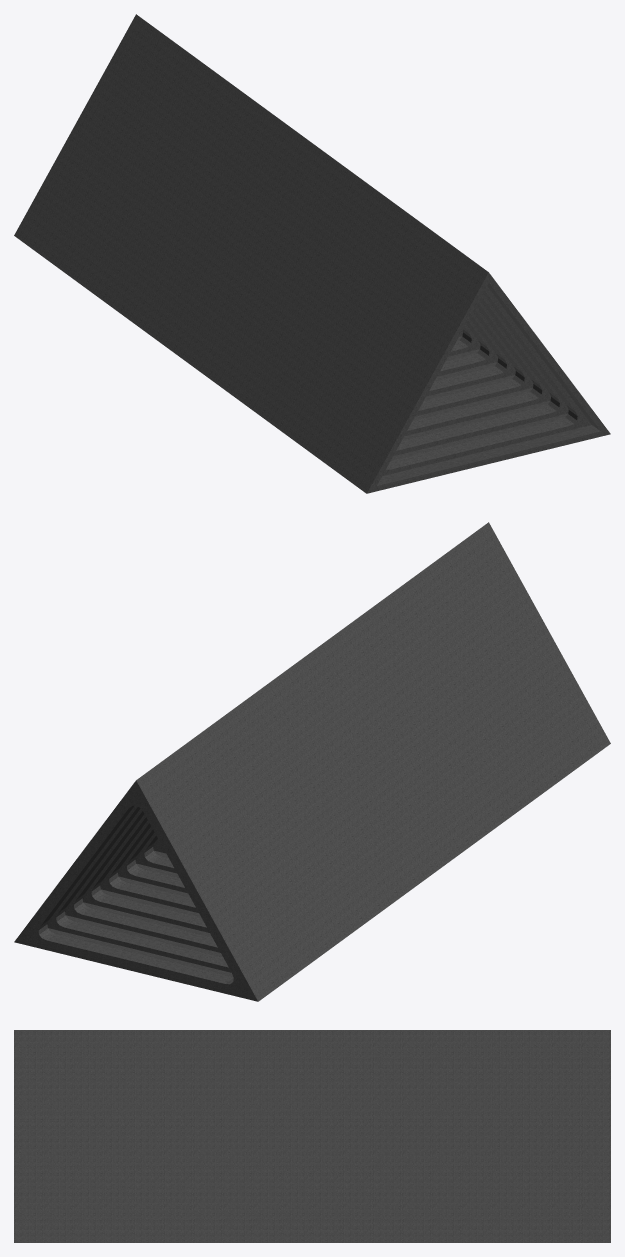
File: VerdgeMegaStructure.fbx
3 views of the same model, one above another, from view 1: azimuth 30°, elevation 25°; view 2: azimuth 150°, elevation 25°; view 3: azimuth 270°, elevation 25° (orthographic). The views are drawn at different scales.
Parts seen in each view (by area): view 1: Cube.007; view 2: Cube.007; view 3: Cube.007.
Part boxes in pixels (left/top/right/bottom): Cube.007: left=14, top=14, right=610, bottom=493; Cube.007: left=14, top=522, right=610, bottom=1001; Cube.007: left=14, top=1030, right=610, bottom=1242.
Size of the model in its own units: 6400 by 4800 by 16000.
